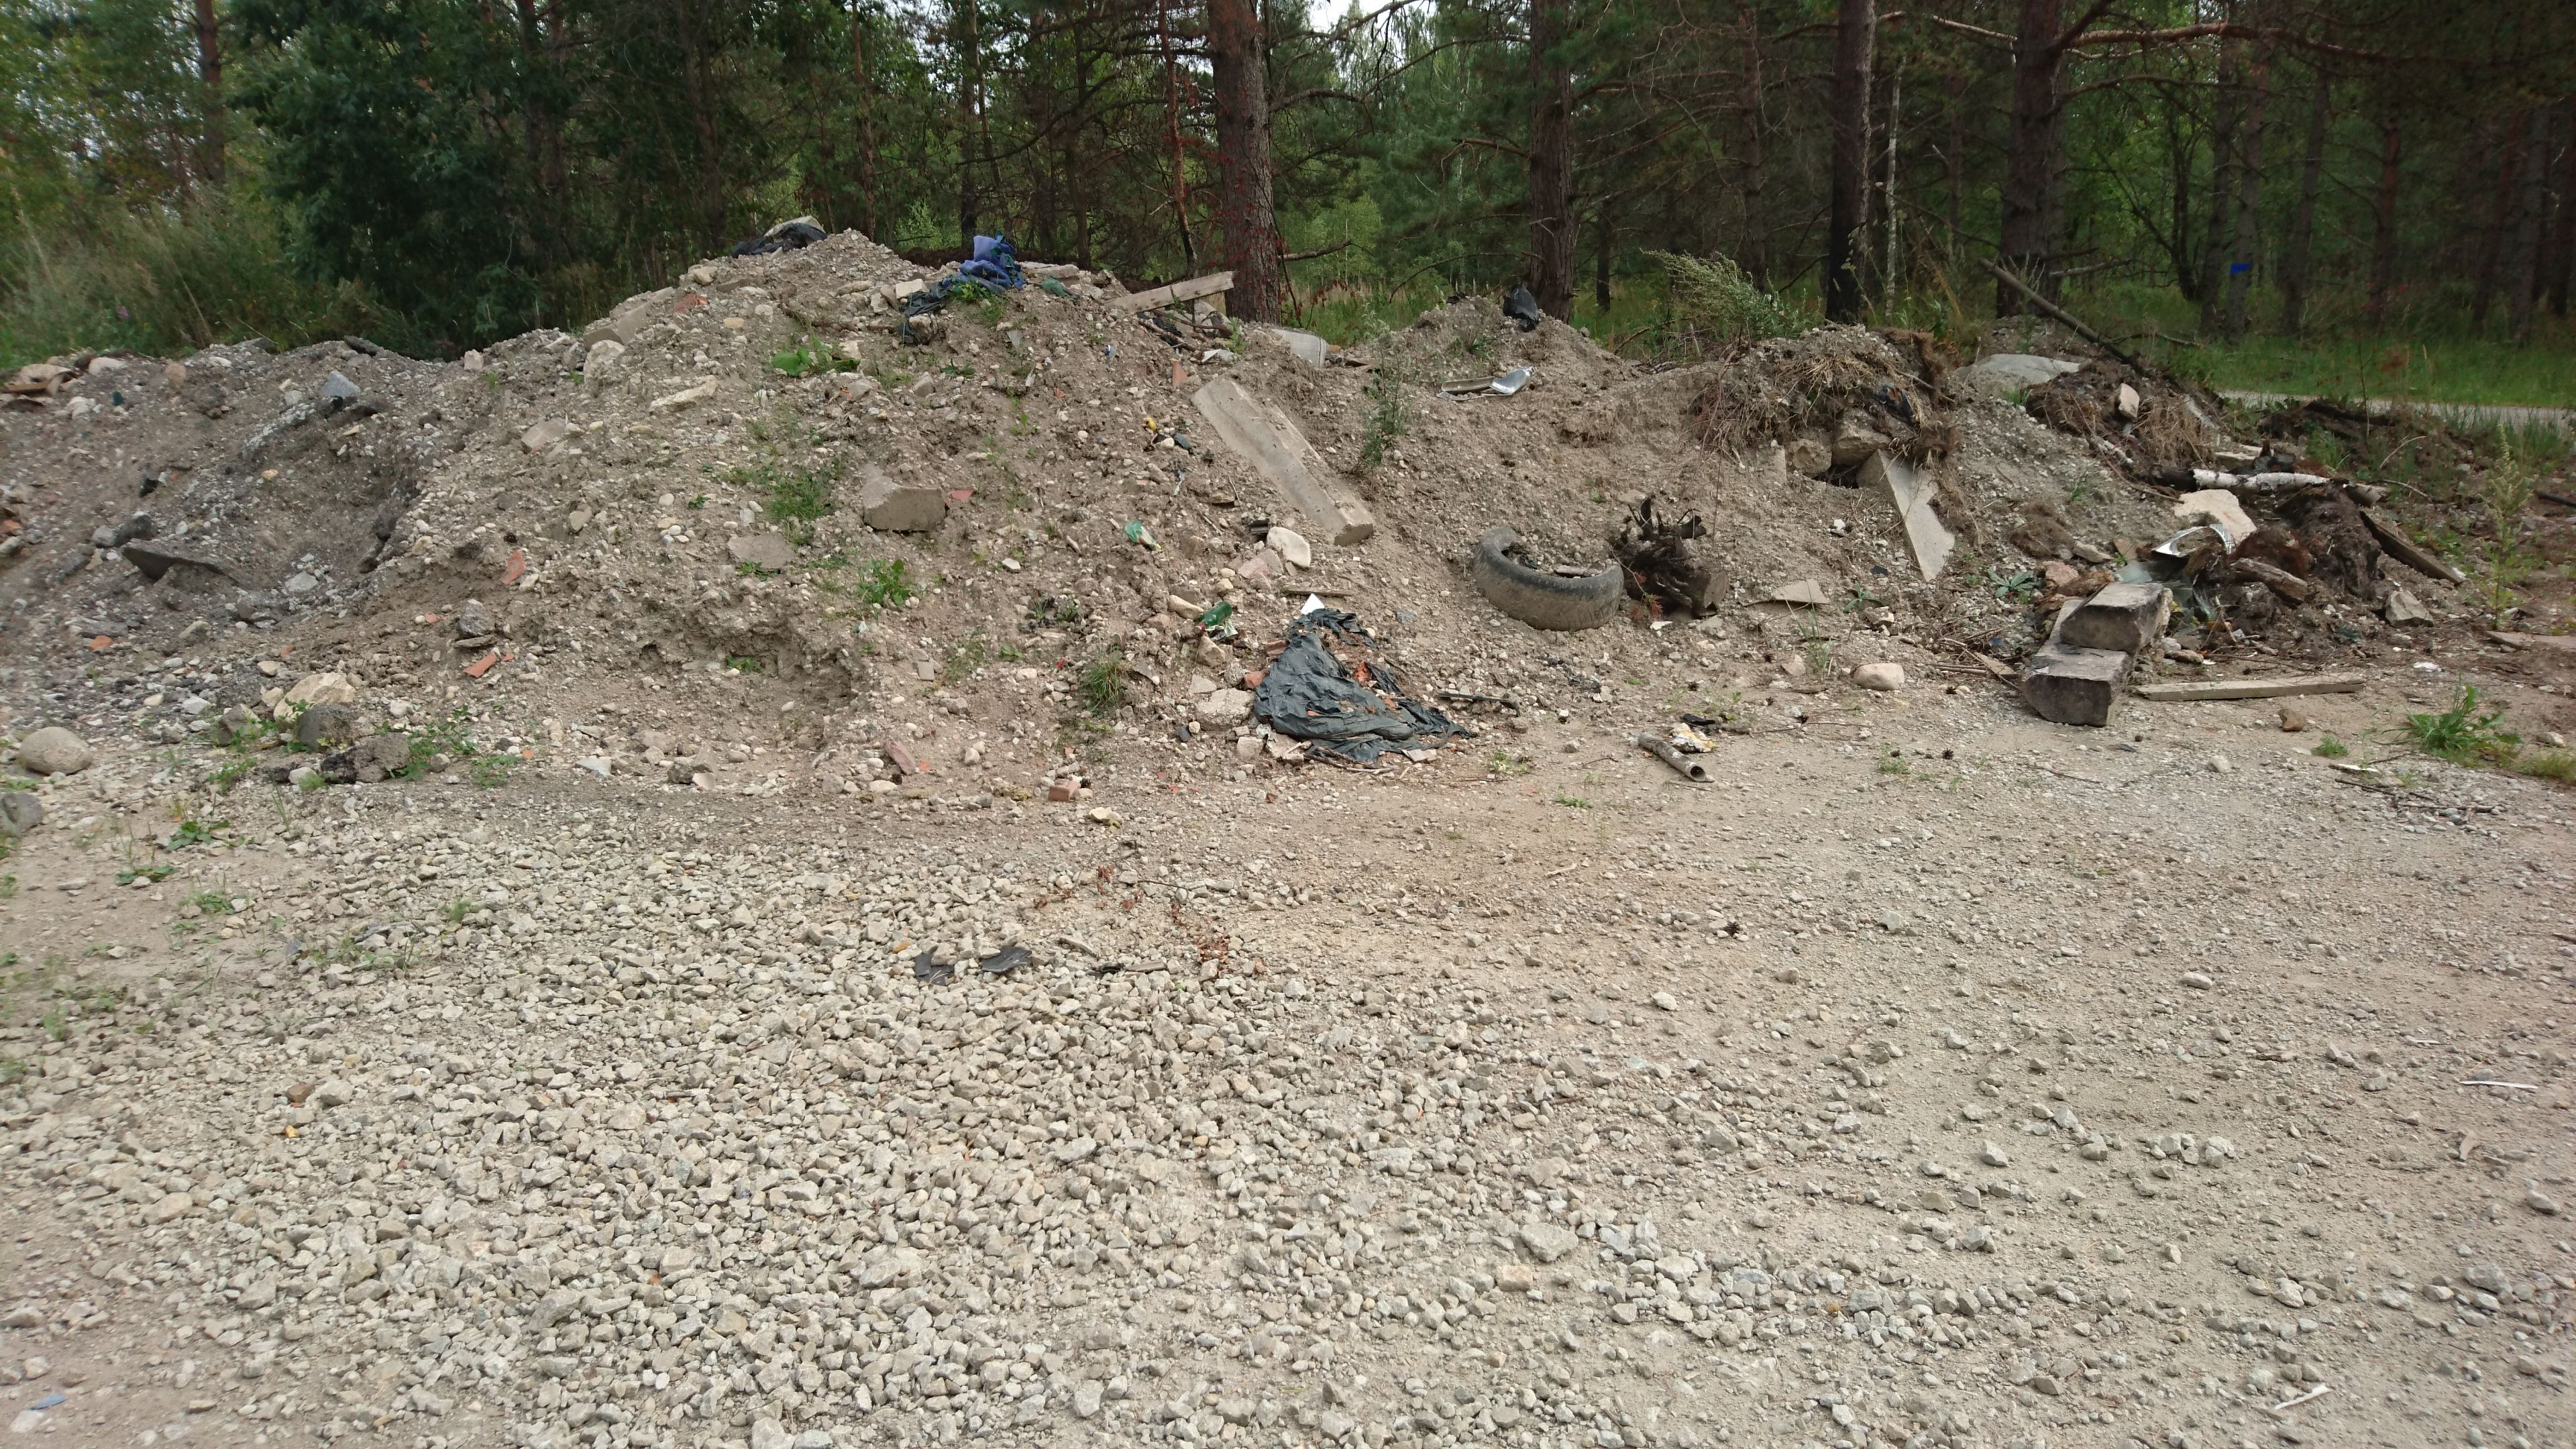trash: (2001, 439, 2367, 731), (1171, 589, 1445, 793), (1449, 488, 1757, 639), (741, 182, 1019, 331), (1415, 347, 1568, 416)
